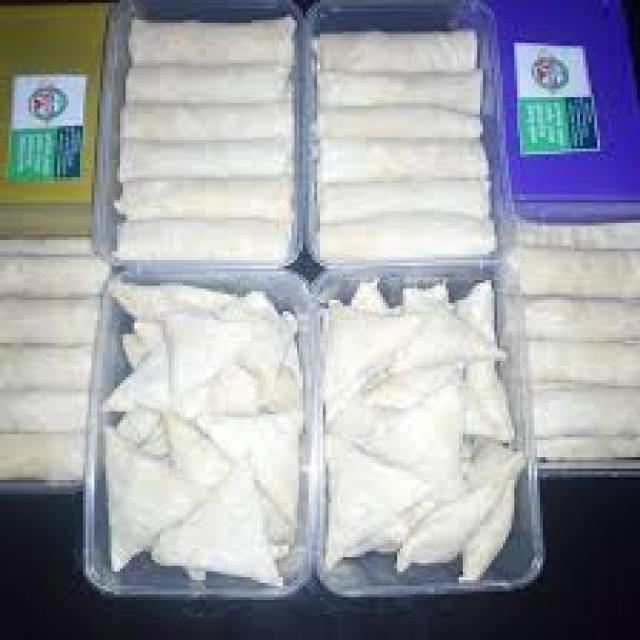Samosa: (97, 266, 520, 591)
Spring Rolls: (111, 8, 500, 268), (506, 207, 636, 477), (0, 232, 109, 484)
